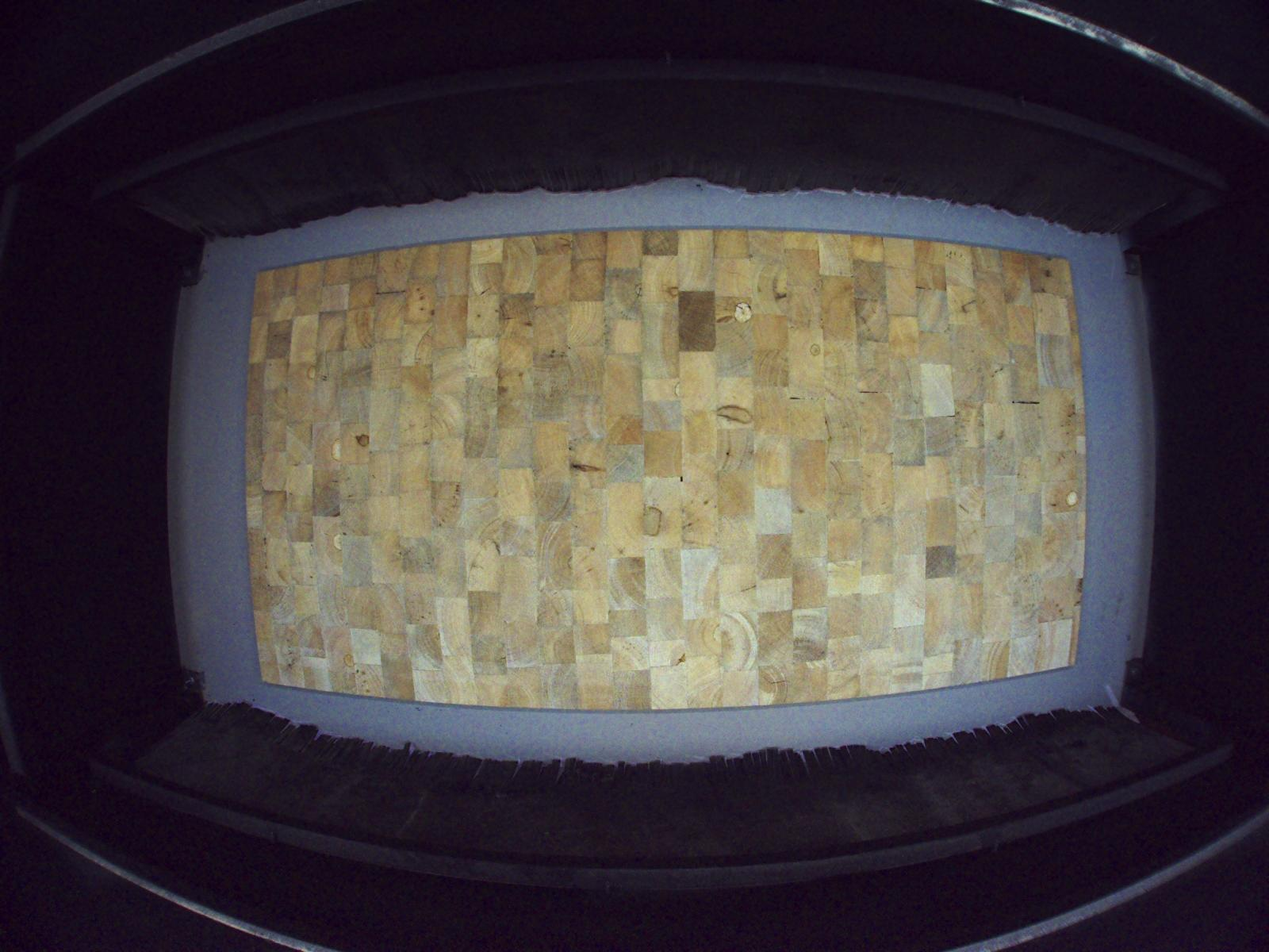nudillo: (569, 459, 607, 474)
